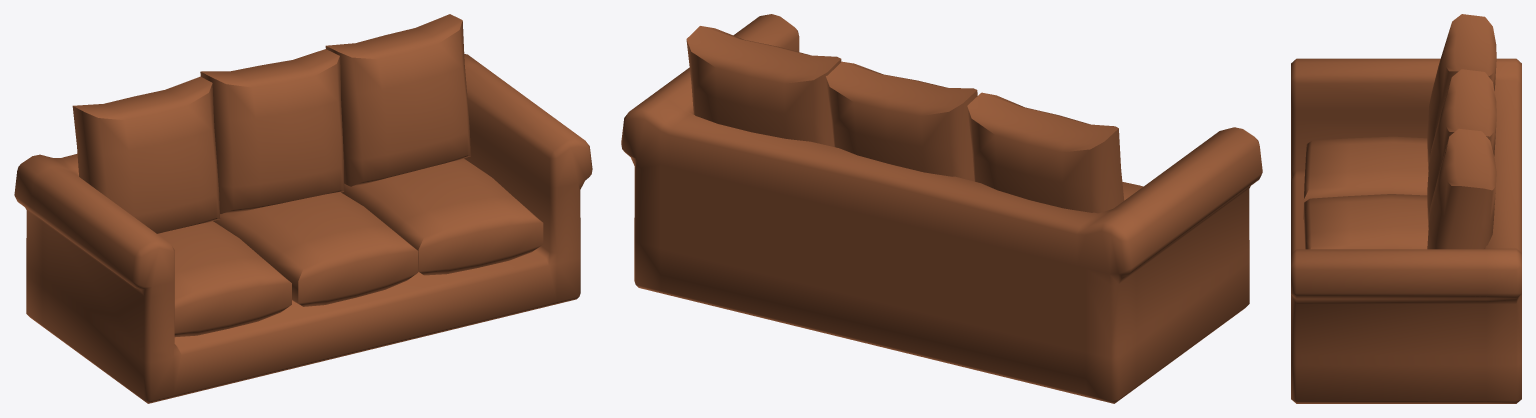
File: pk_motion_cognac.glb
3 renders of one model, left to right at view 1: azimuth 30°, elevation 25°; view 2: azimuth 150°, elevation 25°; view 3: azimuth 270°, elevation 25°, orthographic. The views are drawn at different scales.
Visible parts, largest first — view 1: pk_motion_cognac; view 2: pk_motion_cognac; view 3: pk_motion_cognac.
Boxes of the visible parts, x1,y1,x2,y2 form: pk_motion_cognac: [14, 14, 592, 403]; pk_motion_cognac: [621, 14, 1262, 403]; pk_motion_cognac: [1291, 14, 1521, 403].
Bounding box in the file's own units: 2.15 × 1 × 1.
1 material, 1 textured.
